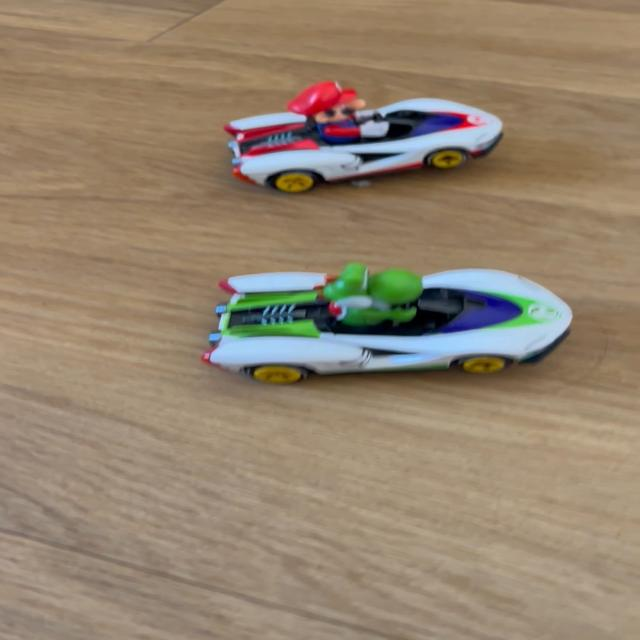mario: (189, 75, 517, 192)
yoshi: (170, 247, 582, 389)
